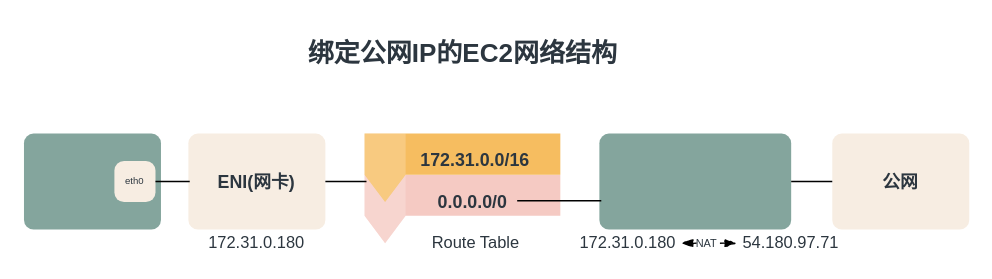
Image size: 992x279. Some labels were removed from this diagram. Each missing label, with the box of its shape:
EC2主机: (23, 133, 160, 229)
Internet Gateway: (599, 133, 790, 229)
